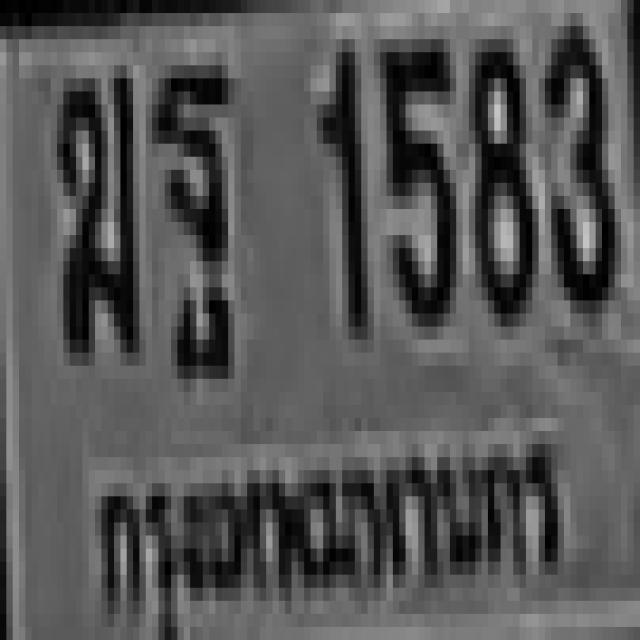1: (317, 39, 361, 327)
15KhorRaKhang: (51, 65, 133, 353)
25ThorThan: (149, 52, 231, 340)
3: (542, 13, 611, 300)
5: (374, 33, 450, 320)
8: (466, 26, 529, 314)
Bangkok: (84, 430, 568, 640)
